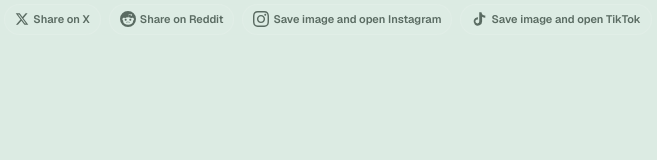
Test: DirectShareRow honest degrade (no web intent on IG/TikTok) › clipboard rejection falls through to the manual wording — degrade never goes silent
This screenshot has width=657, height=160.
Click the button "Save image and open Instagram" at (347, 19), box [242,4,452,34]
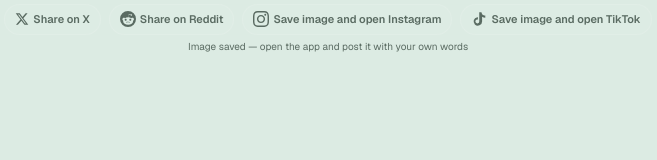
Expected: the text with test id "direct-share-hint" reads "Image saved — open the app and post it with your own words", [188,40,468,52]
